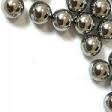ironball: (30, 0, 54, 27), (82, 34, 106, 60), (74, 10, 97, 36), (52, 8, 73, 33), (88, 59, 111, 81), (0, 0, 24, 21), (96, 17, 111, 40), (90, 0, 110, 17), (67, 0, 89, 11), (102, 87, 111, 111), (106, 47, 111, 67), (110, 70, 111, 95), (106, 0, 111, 1)
